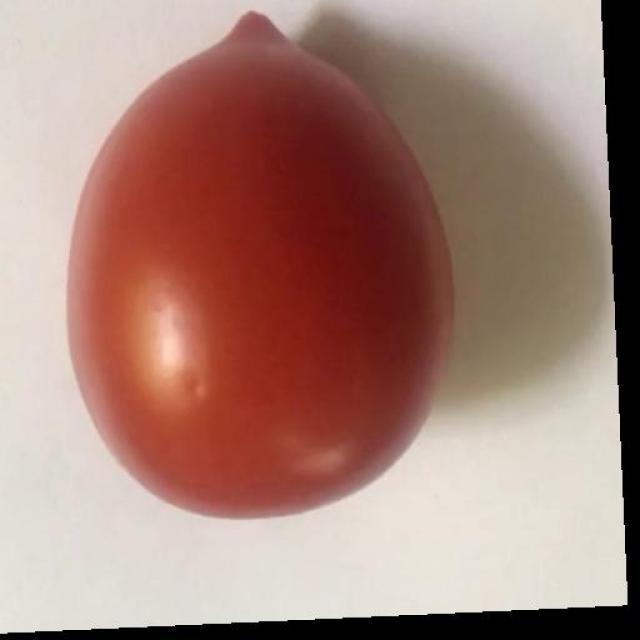Fresh Tomato: (68, 5, 468, 542)
